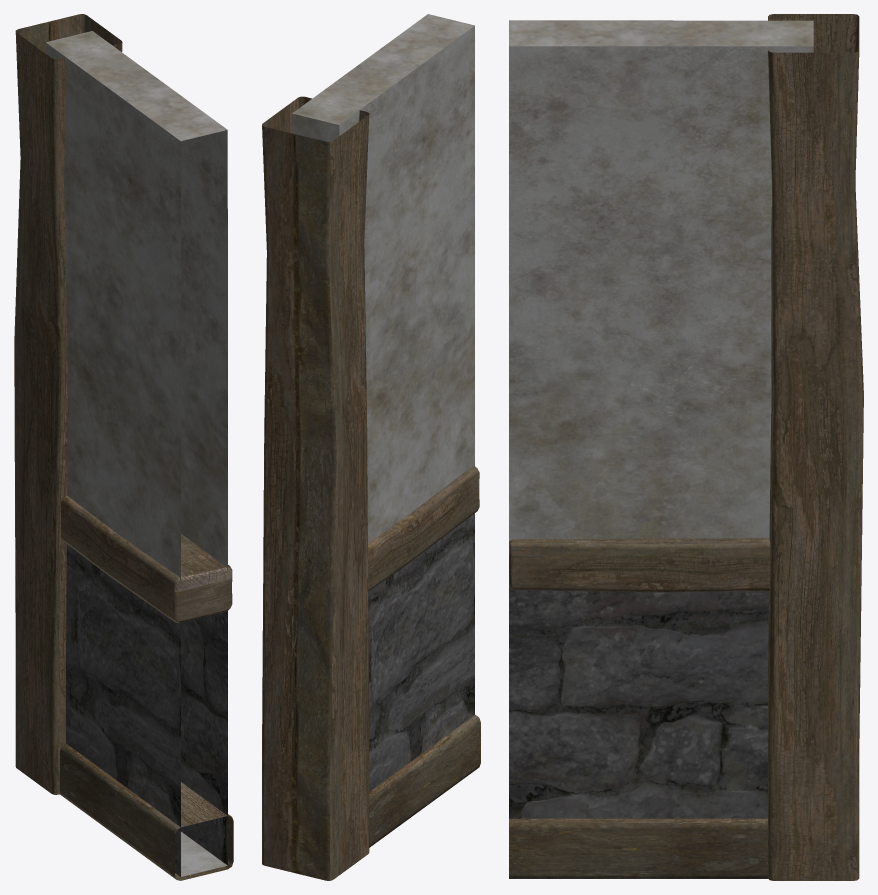
The model's file is SM_WallSmall08.fbx.
The picture shows the model from 3 angles, left to right: view 1: azimuth 30°, elevation 25°; view 2: azimuth 150°, elevation 25°; view 3: azimuth 270°, elevation 25°; orthographic projection. The views are drawn at different scales.
Visible parts, largest first — view 1: SM_WallSmall08_LOD0; view 2: SM_WallSmall08_LOD0; view 3: SM_WallSmall08_LOD0.
Boxes of the visible parts, box(x1,y1,x2,y2) form: SM_WallSmall08_LOD0: box(14, 14, 233, 880); SM_WallSmall08_LOD0: box(262, 14, 480, 880); SM_WallSmall08_LOD0: box(509, 14, 863, 880).
Bounding box in the file's own units: 33.03 × 117 × 302.
